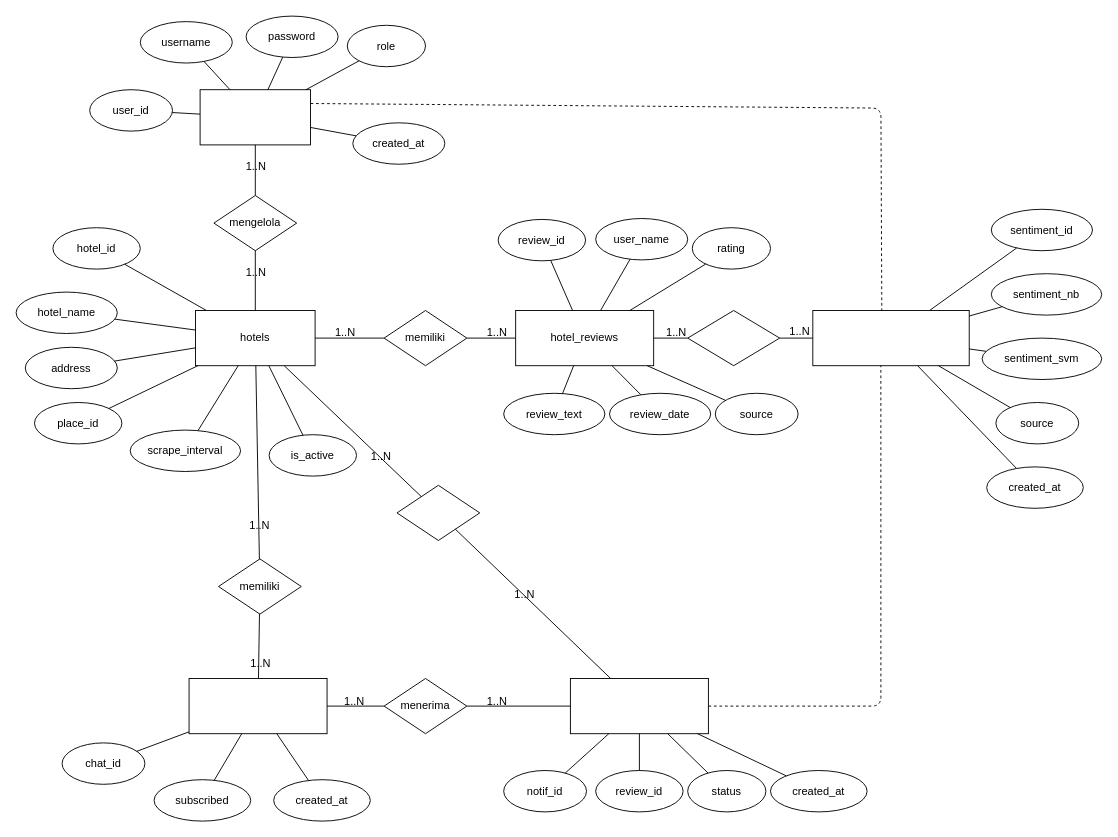
Image size: 1118x837. Some labels were removed from this diagram. Here are the shapes that lost their labels. From the top down, the centre of each, then its label:
At point (254, 117): "users".
At point (733, 338): "dianalisis".
At point (890, 338): "sentiment_reviews".
At point (438, 512): "terkait".
At point (257, 706): "telegram_users".
At point (638, 706): "notifications".
